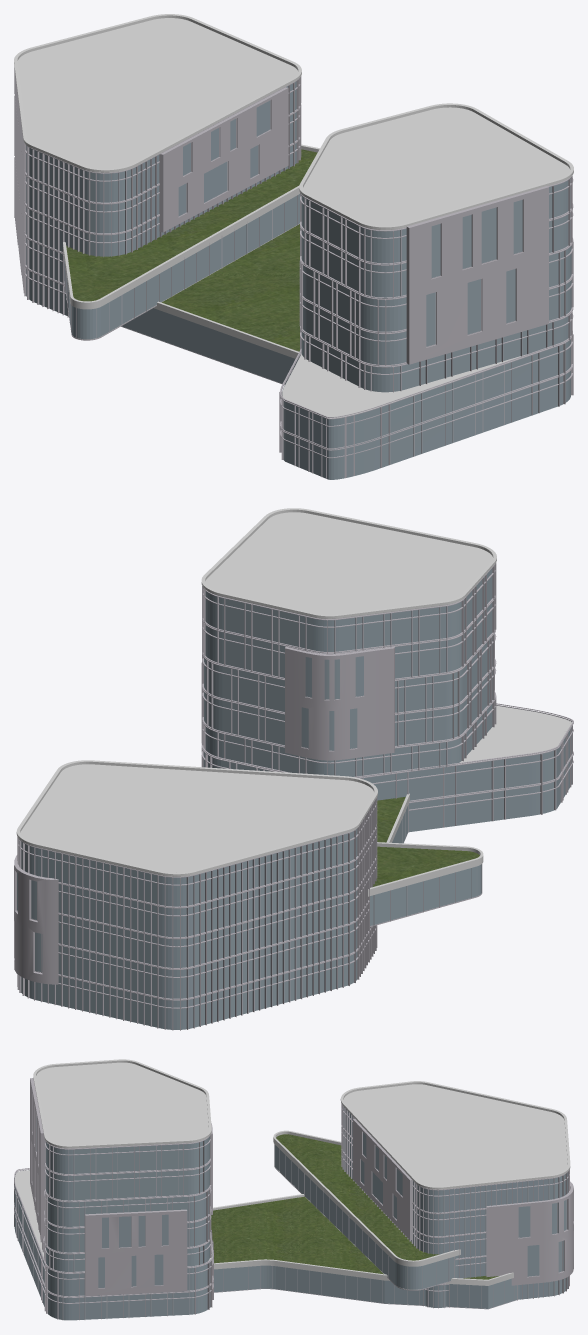
File: gwdl.FBX
3 views of the same model, one above another, from view 1: azimuth 30°, elevation 25°; view 2: azimuth 150°, elevation 25°; view 3: azimuth 270°, elevation 25° (orthographic). The views are drawn at different scales.
Parts seen in each view (by area): view 1: 办公楼105; view 2: 办公楼105; view 3: 办公楼105.
Part boxes in pixels (bbox=[...]): 办公楼105: bbox=[14, 14, 573, 479]; 办公楼105: bbox=[14, 508, 573, 1030]; 办公楼105: bbox=[14, 1059, 573, 1320].
Bounding box in the file's own units: 4370 × 2651 × 7695.
